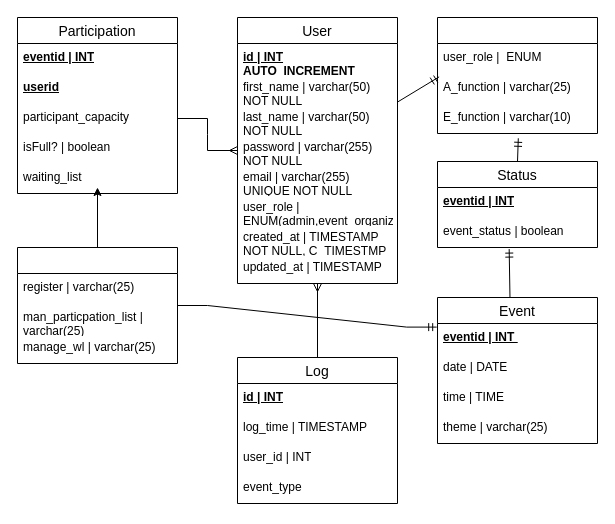
Some shapes in this 615 by 524 pixel diagram are drawn without their labels. The shapes that lost their labels are listed below. From the top down, each one's box as (x1, y1, x2, y2) in pixels, then its label:
(436, 16, 598, 134): Admin
(16, 246, 178, 364): Registration
